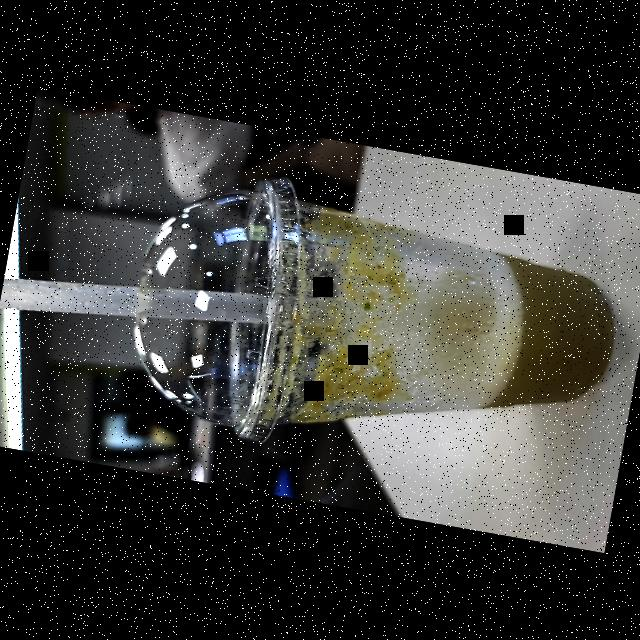plastic_cup: (106, 162, 636, 498)
plastic_cup_lid: (107, 160, 325, 447)
straw: (0, 282, 333, 325)
